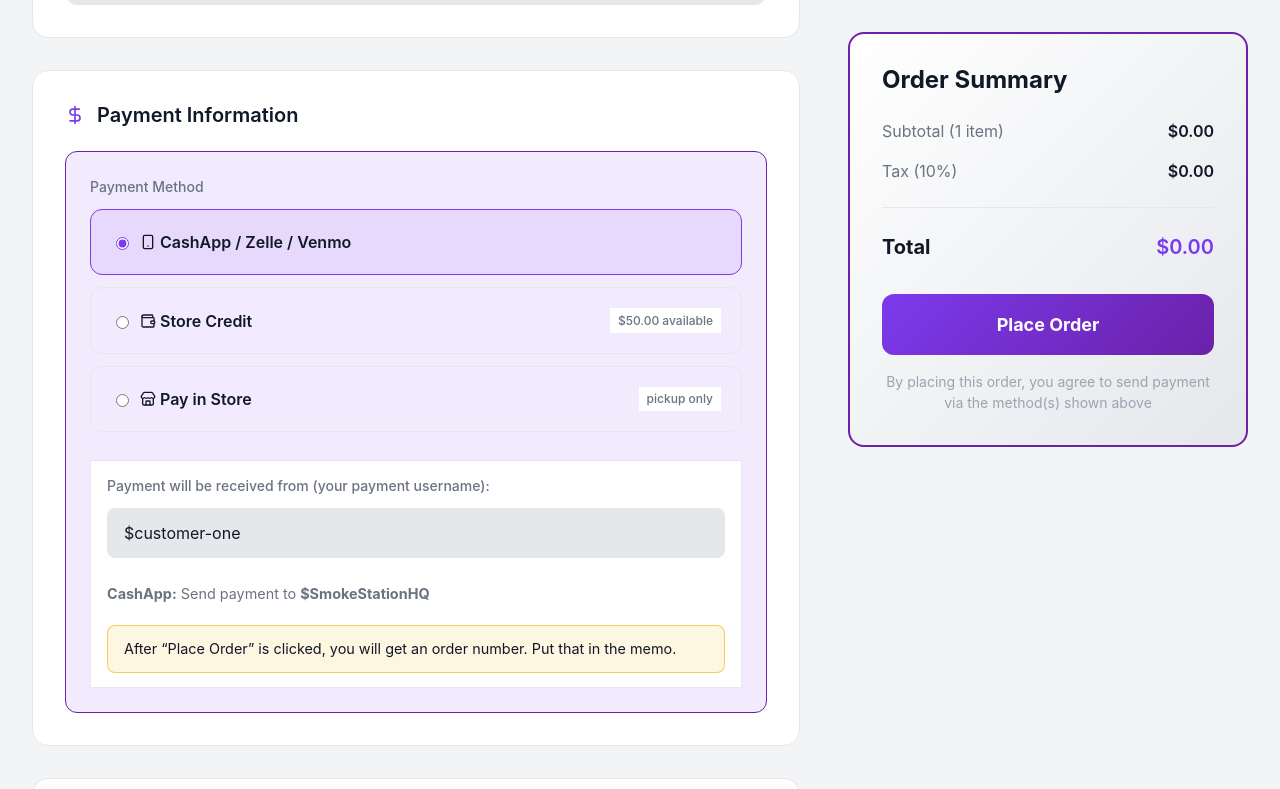
it: CheckoutPage › IN_STORE payment › resets payment method to EXTERNAL when switching from PICKUP to DELIVERY
The image size is (1280, 789).
(page scrolled)
# Select Pay in Store while on PICKUP
What coordinates should you click on to do the following:
click the radio button labelled "Pay in Store pickup only"
I would click on:
 (122, 400)
Its box is [116,394,129,407].
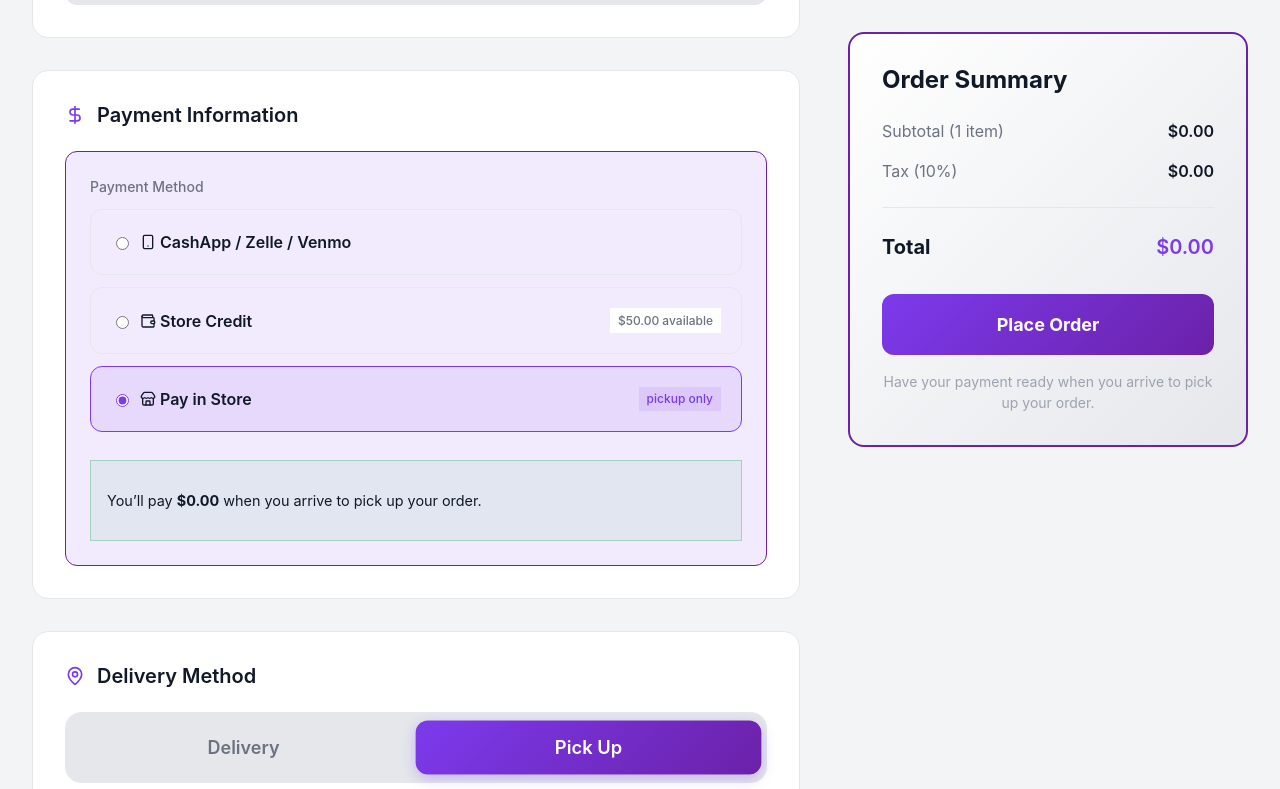
Expected: the radio button labelled "Pay in Store pickup only" is checked, [116,394,129,407]
# Switch to Delivery — IN_STORE is no longer available
What coordinates should you click on to do the following:
click the button "Delivery"
I would click on:
 (244, 747)
Its box is [74,720,413,774].
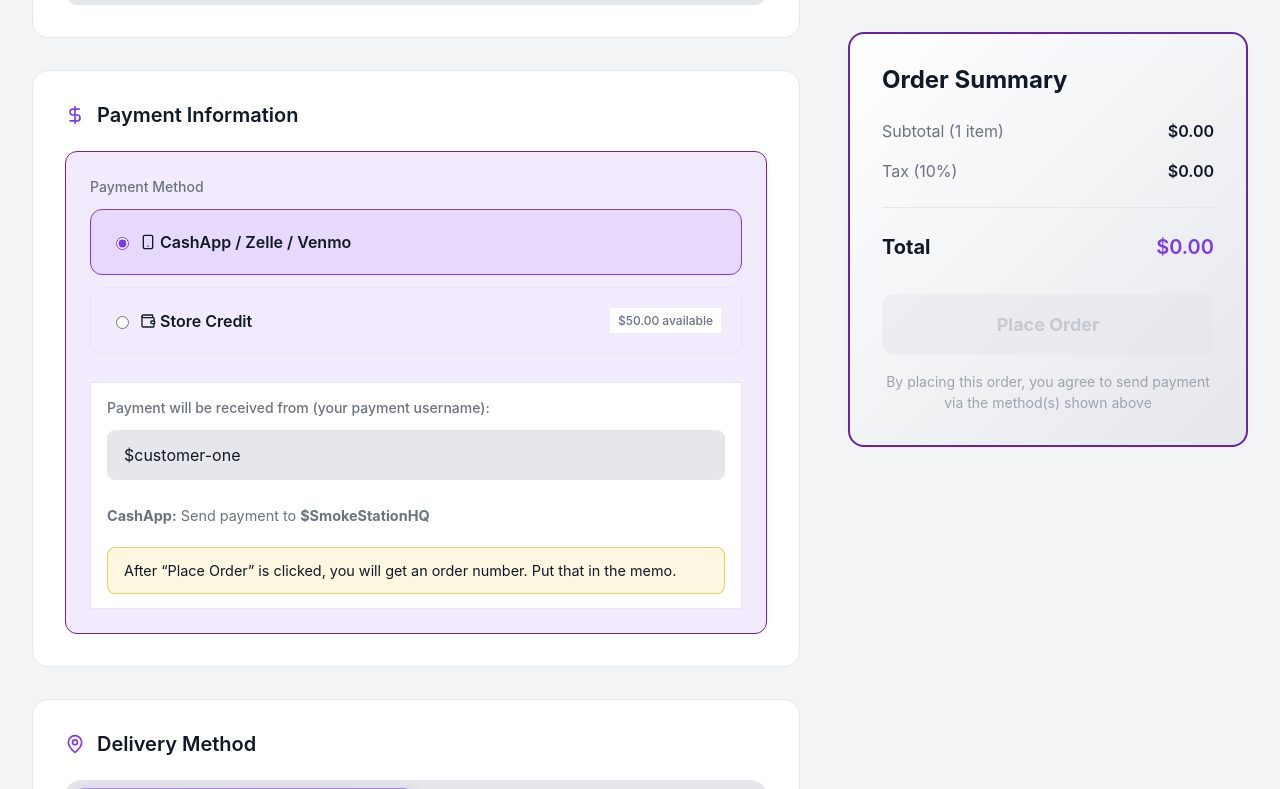
Expected: the field with placeholder "$username" is shown, [107,430,725,480]
